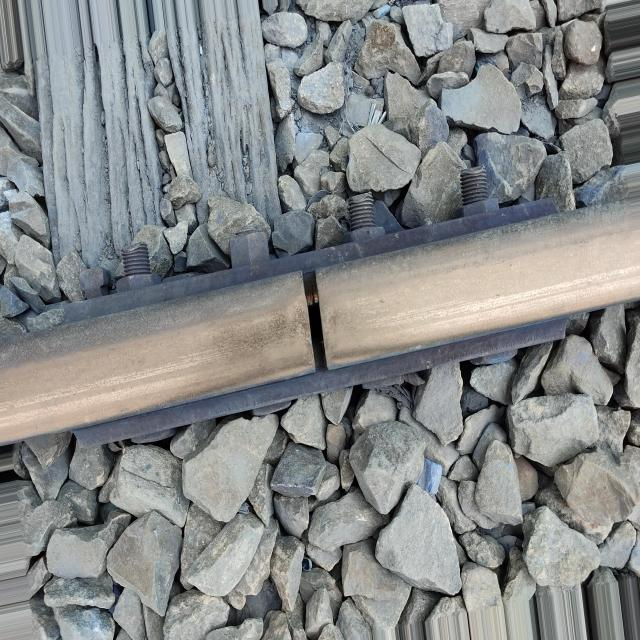crack: (284, 254, 338, 388)
